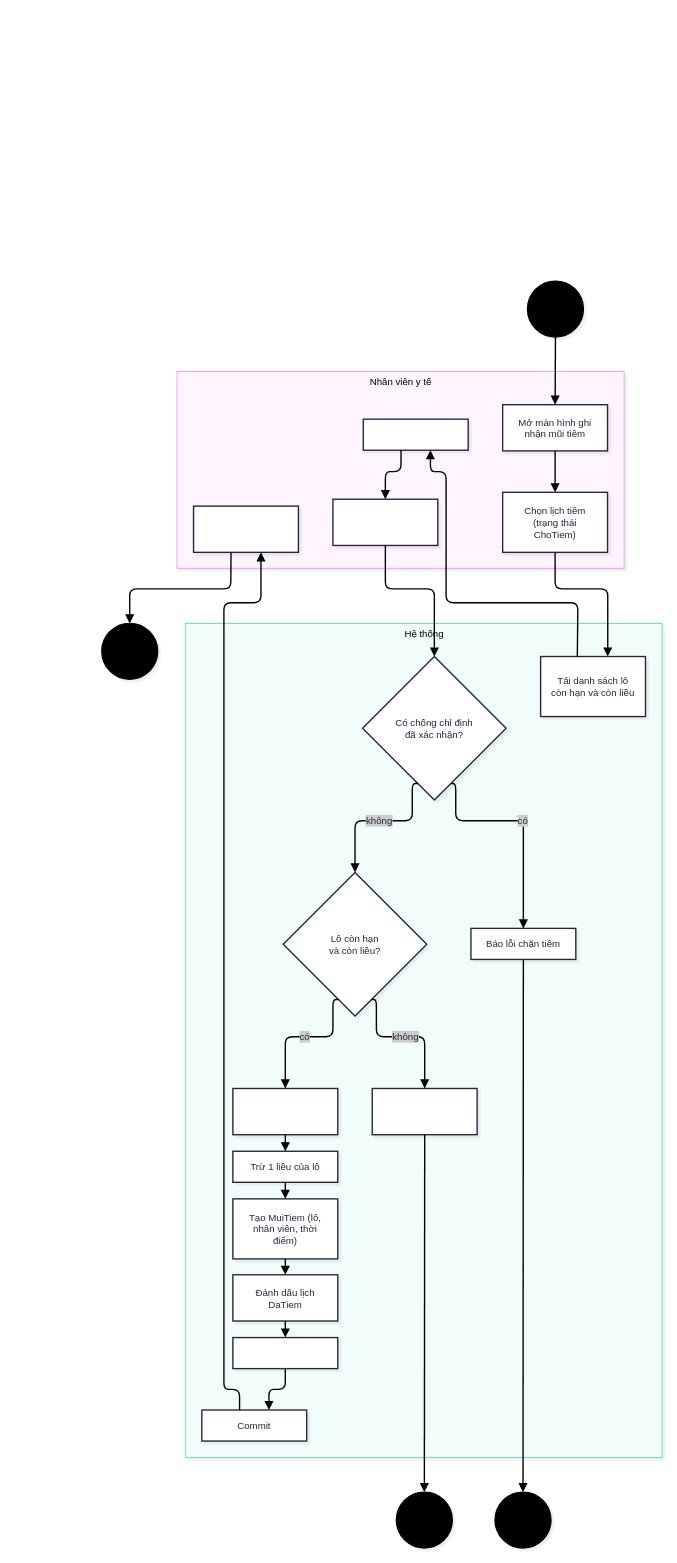
This 677x1563 diagram has some shape labels left out. The shapes that lost their labels are listed below. From the top down, each one's centre as x and y in pixels, then its label:
point 416,435: Chọn lô vaccine
point 247,530: Xem phiếu xác nhận đã tiêm
point 386,523: Nhấn 'Xác nhận tiêm'
point 286,1112: Bắt đầu transaction
point 425,1112: Báo lỗi lô không hợp lệ
point 286,1354: Ghi nhật ký
